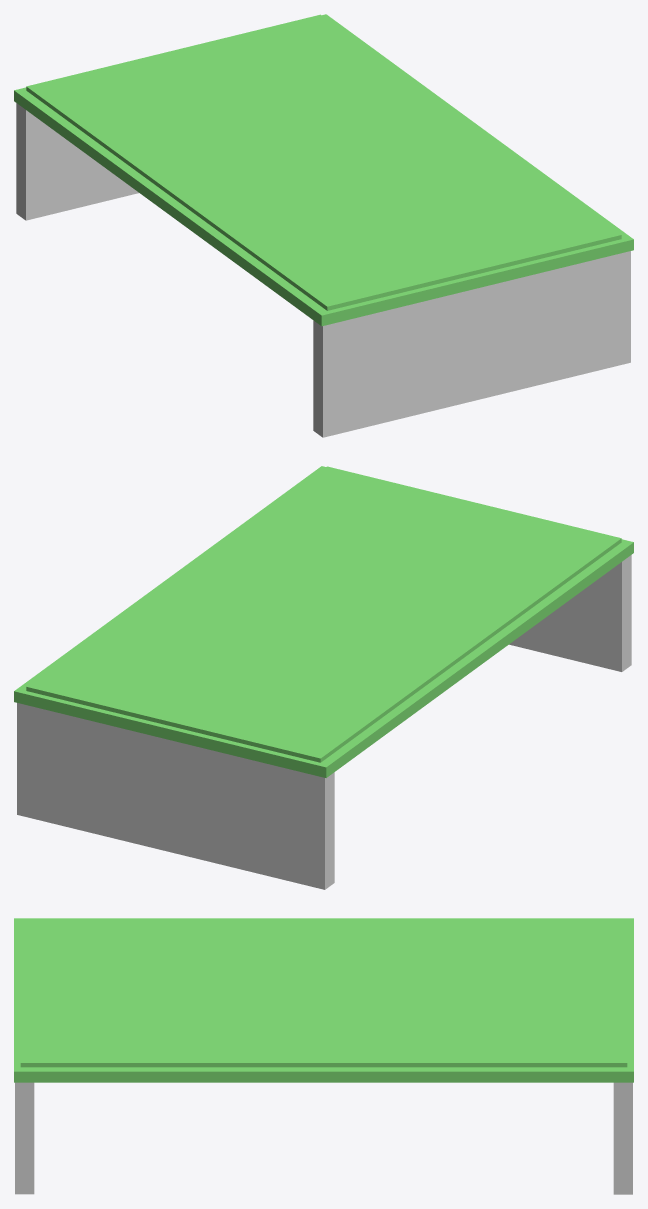
The model's file is Mesa_no_para_comer.fbx.
3 views of the same model, one above another, from view 1: azimuth 30°, elevation 25°; view 2: azimuth 150°, elevation 25°; view 3: azimuth 270°, elevation 25° (orthographic).
Parts seen in each view (by area): view 1: Plano, Plano.002, Plano.001; view 2: Plano, Plano.001, Plano.002; view 3: Plano, Plano.001, Plano.002.
Boxes of the visible parts, x1,y1,x2,y2 form: Plano: (14,14,633,326); Plano.002: (313,251,630,437); Plano.001: (16,103,138,220); Plano: (14,466,633,777); Plano.001: (17,703,334,889); Plano.002: (509,555,631,671); Plano: (14,918,633,1082); Plano.001: (613,1082,632,1194); Plano.002: (15,1082,34,1194).
Size of the model in its own units: 313 by 122 by 534.
